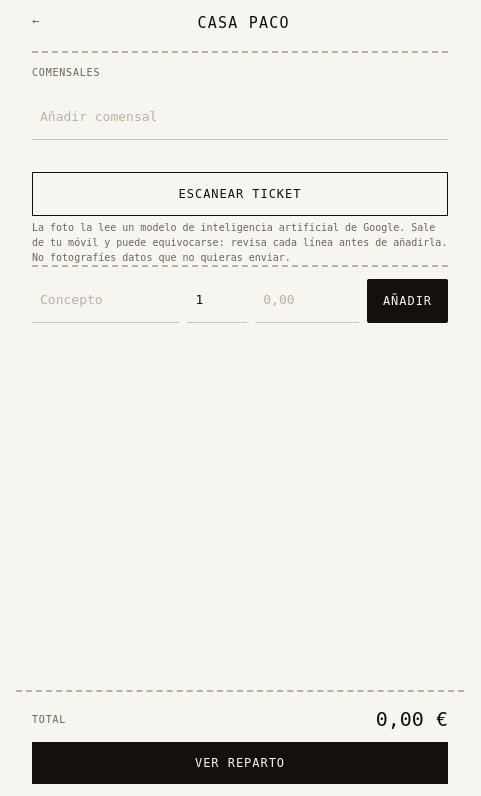
Test: BillScreen › añade comensales
Type "Ana" into the field labelled "Añadir comensal".
click(240, 118); type("Ana")  # box top-left (32, 96), bottom-right (448, 140)
Then press Enter
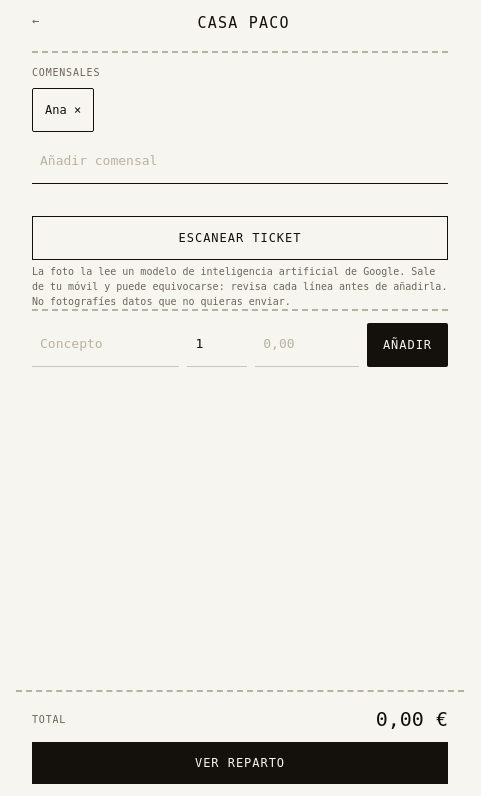
Type "Luis" into the field labelled "Añadir comensal".
click(240, 162); type("Luis")  # box top-left (32, 140), bottom-right (448, 184)
Then press Enter
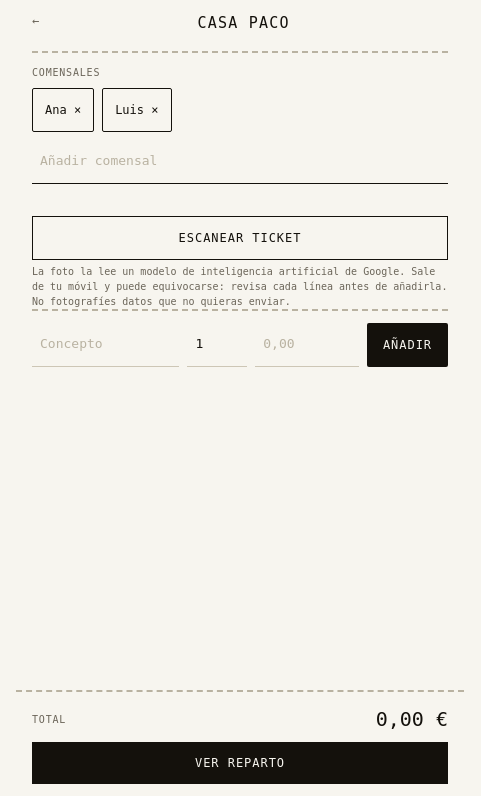
Check: the button "Ana ×" is shown, box top-left (32, 88), bottom-right (94, 132)
Check: the button "Luis ×" is shown, box top-left (102, 88), bottom-right (172, 132)
